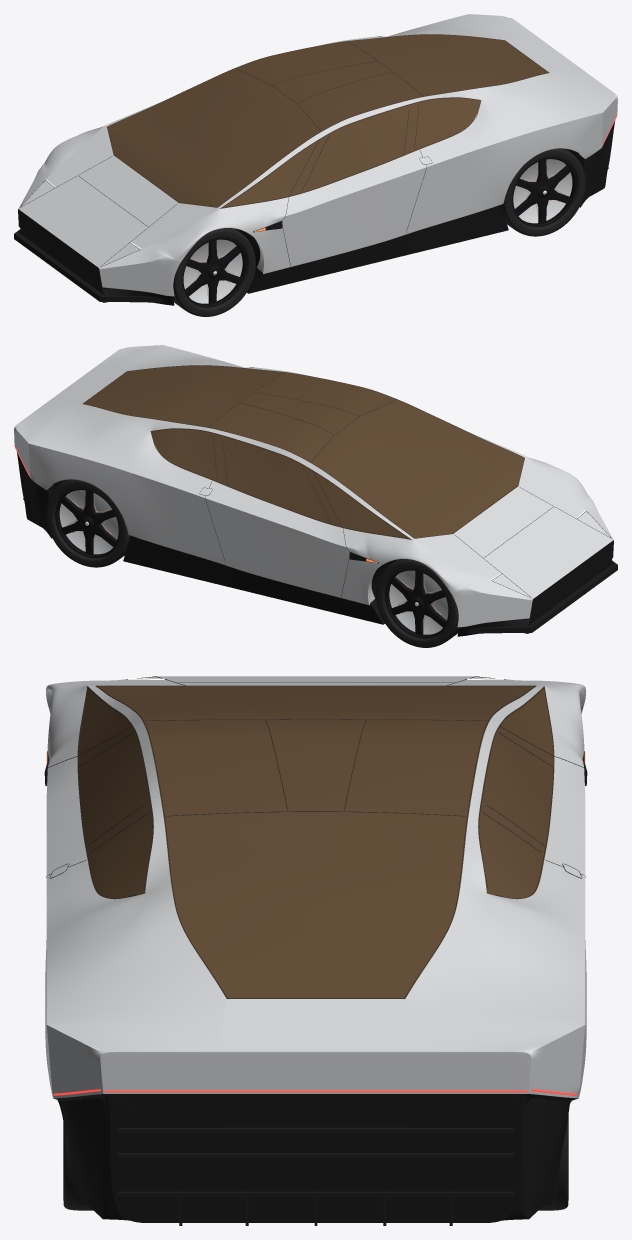
Rendered from wedge_car.glb.
The picture shows the model from 3 angles, top to bottom: view 1: azimuth 30°, elevation 25°; view 2: azimuth 150°, elevation 25°; view 3: azimuth 270°, elevation 25°; orthographic projection. The views are drawn at different scales.
Visible parts, largest first — view 1: Body, Tyre.001, Tyre.003, RimDisc.001, RimDisc.003, PanelLines_Top, Spokes.001, Spokes.003, FrontSplitter, PanelLines_Side, RimLip.001, RimLip.003; view 2: Body, Tyre.002, Tyre.004, RimDisc.002, RimDisc.004, PanelLines_Top, Spokes.002, Spokes.004, FrontSplitter, PanelLines_Side, RimLip.002, RimLip.004; view 3: Body, PanelLines_Top, DiffuserTier.002, DiffuserTier, DiffuserTier.001, PanelLines_Side, TailLamp, Tyre.004, Tyre.003.
Boxes of the visible parts, left/top/right/bottom form: Body: left=18, top=14, right=617, bottom=305; Tyre.001: left=173, top=228, right=255, bottom=316; Tyre.003: left=502, top=148, right=585, bottom=236; RimDisc.001: left=183, top=239, right=242, bottom=303; RimDisc.003: left=513, top=159, right=572, bottom=223; PanelLines_Top: left=20, top=34, right=549, bottom=266; Spokes.001: left=185, top=240, right=241, bottom=304; Spokes.003: left=515, top=159, right=570, bottom=223; FrontSplitter: left=14, top=229, right=163, bottom=302; PanelLines_Side: left=222, top=36, right=479, bottom=265; RimLip.001: left=182, top=238, right=246, bottom=307; RimLip.003: left=512, top=157, right=576, bottom=226; Body: left=14, top=345, right=613, bottom=636; Tyre.002: left=376, top=559, right=458, bottom=647; Tyre.004: left=46, top=479, right=130, bottom=567; RimDisc.002: left=389, top=570, right=448, bottom=634; RimDisc.004: left=59, top=490, right=118, bottom=554; PanelLines_Top: left=82, top=365, right=611, bottom=597; Spokes.002: left=390, top=571, right=446, bottom=635; Spokes.004: left=61, top=490, right=116, bottom=554; FrontSplitter: left=468, top=560, right=617, bottom=633; PanelLines_Side: left=152, top=367, right=409, bottom=596; RimLip.002: left=385, top=569, right=449, bottom=638; RimLip.004: left=55, top=488, right=119, bottom=557; Body: left=45, top=676, right=586, bottom=1222; PanelLines_Top: left=96, top=676, right=535, bottom=998; DiffuserTier.002: left=117, top=1191, right=514, bottom=1196; DiffuserTier: left=117, top=1127, right=514, bottom=1132; DiffuserTier.001: left=117, top=1153, right=514, bottom=1157; PanelLines_Side: left=46, top=687, right=585, bottom=899; TailLamp: left=53, top=1089, right=577, bottom=1095; Tyre.004: left=538, top=1114, right=568, bottom=1210; Tyre.003: left=63, top=1122, right=93, bottom=1210.
Bounding box in the file's own units: 4.77 × 1.34 × 2.21.
